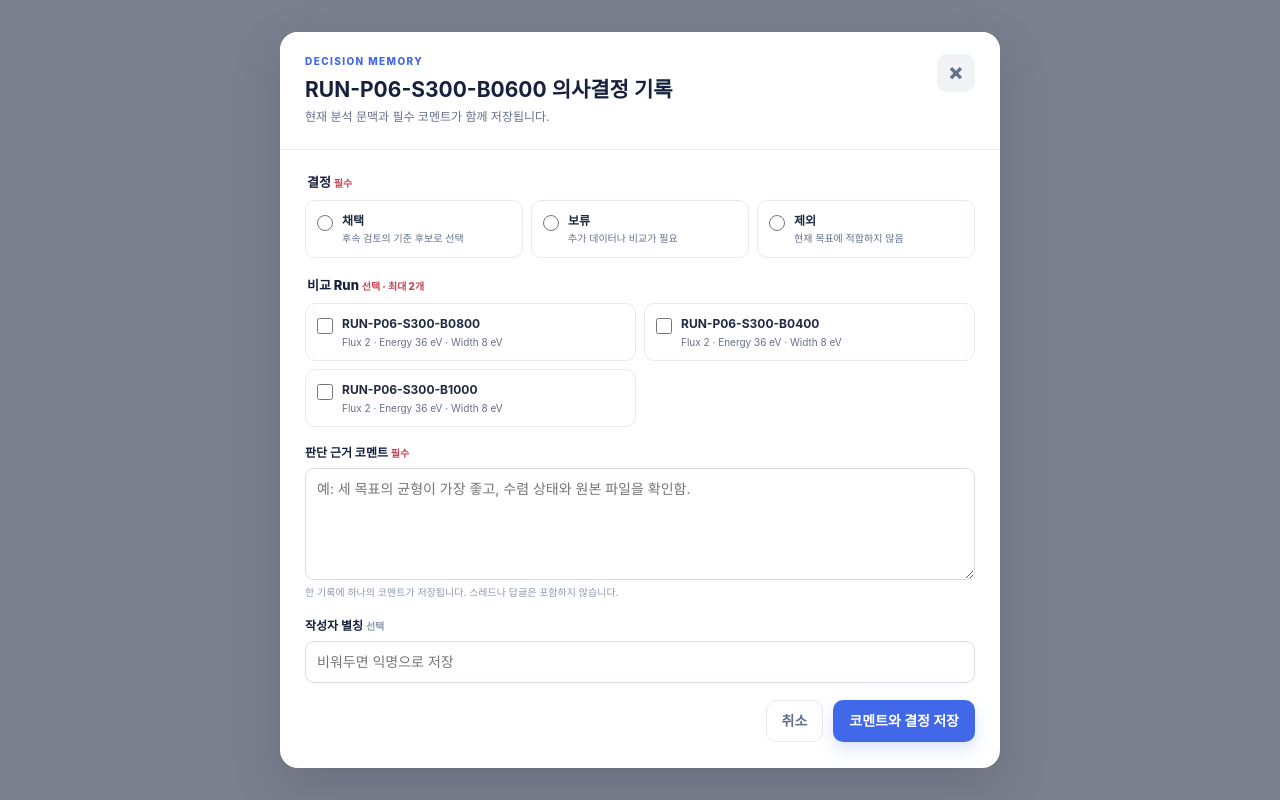
Scenario: REV allows independent HOLD decision and keeps comment after failure
Click the radio button labelled "보류 추가 데이터나 비교가 필요" at (551, 223), box [543, 215, 559, 231]
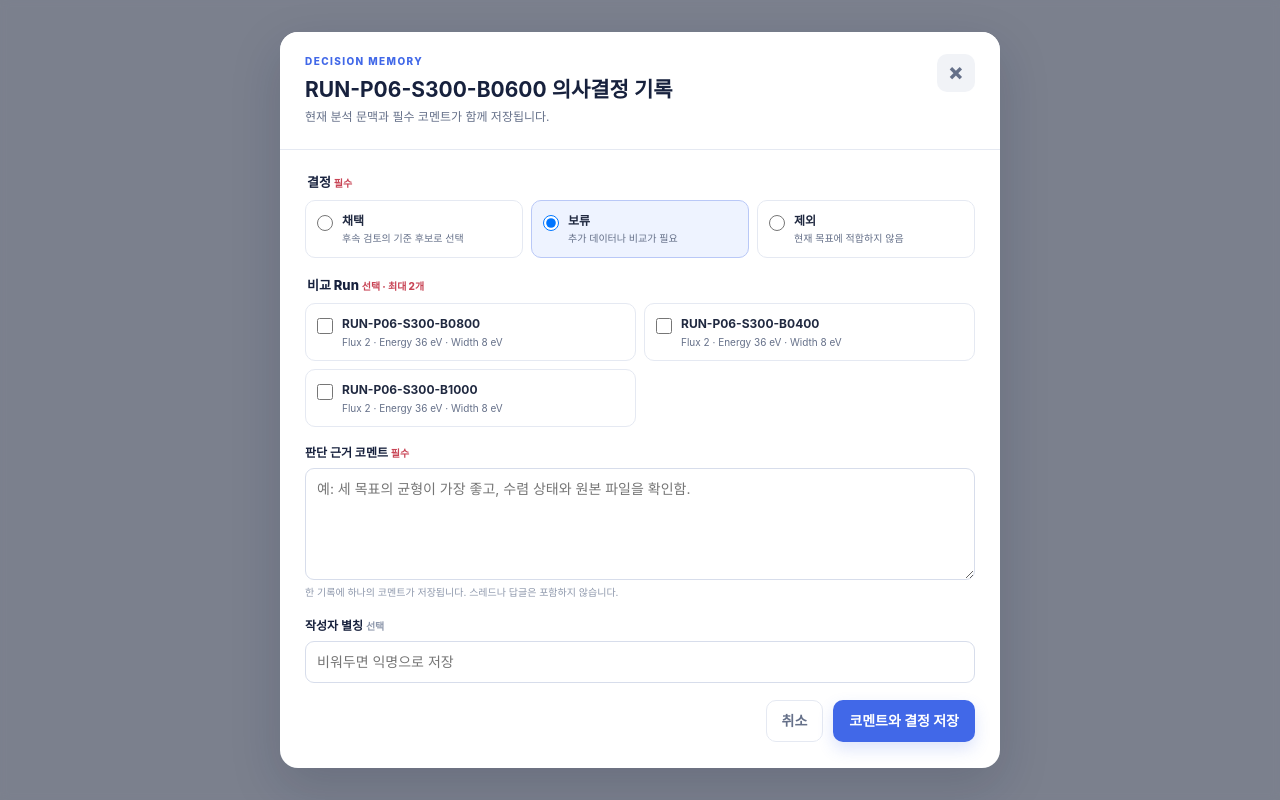
Type "추가 검토 <b>필요</b>" into the text box labelled "판단 근거 코멘트 필수 한 기록에 하나의 코멘트가 저장됩니다. 스레드나 답글은 포함하지 않습니다." at (640, 524), box [305, 468, 975, 580]
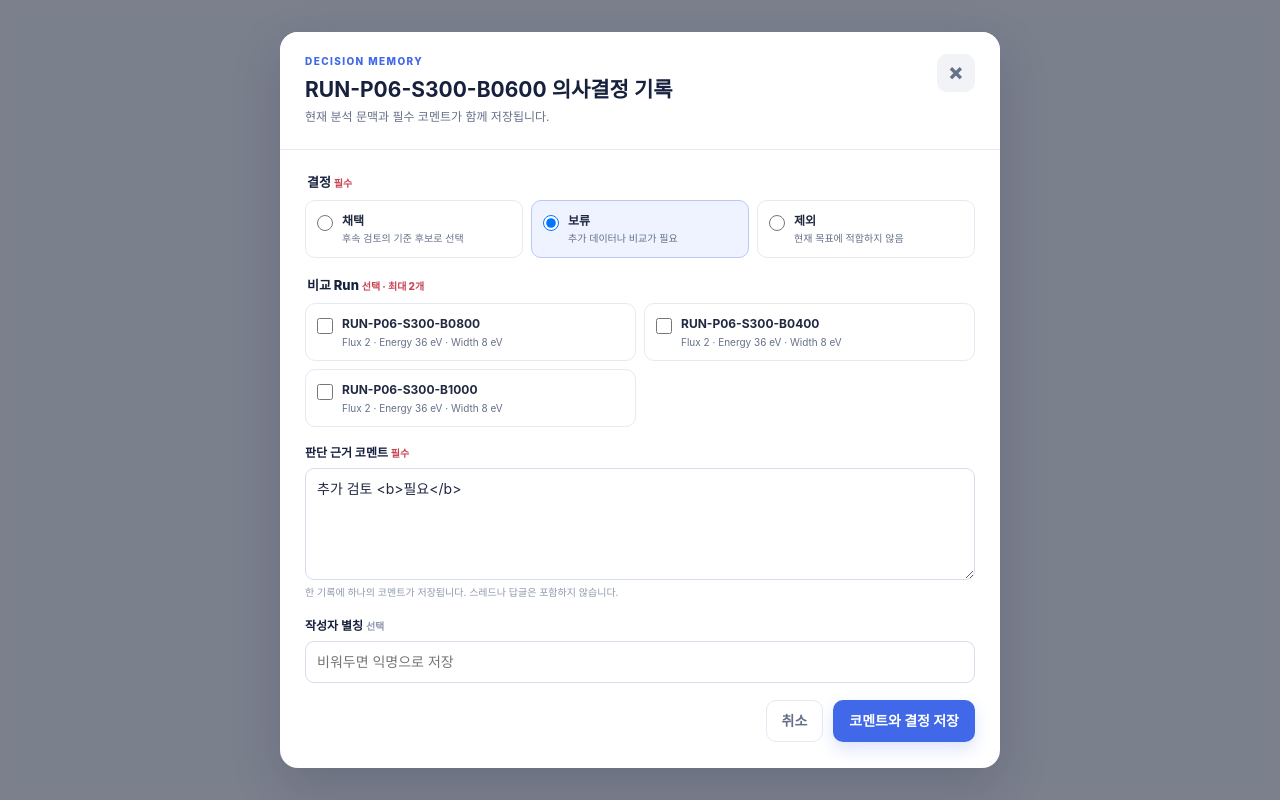
Click the button "코멘트와 결정 저장" at (904, 721), box [833, 700, 975, 742]
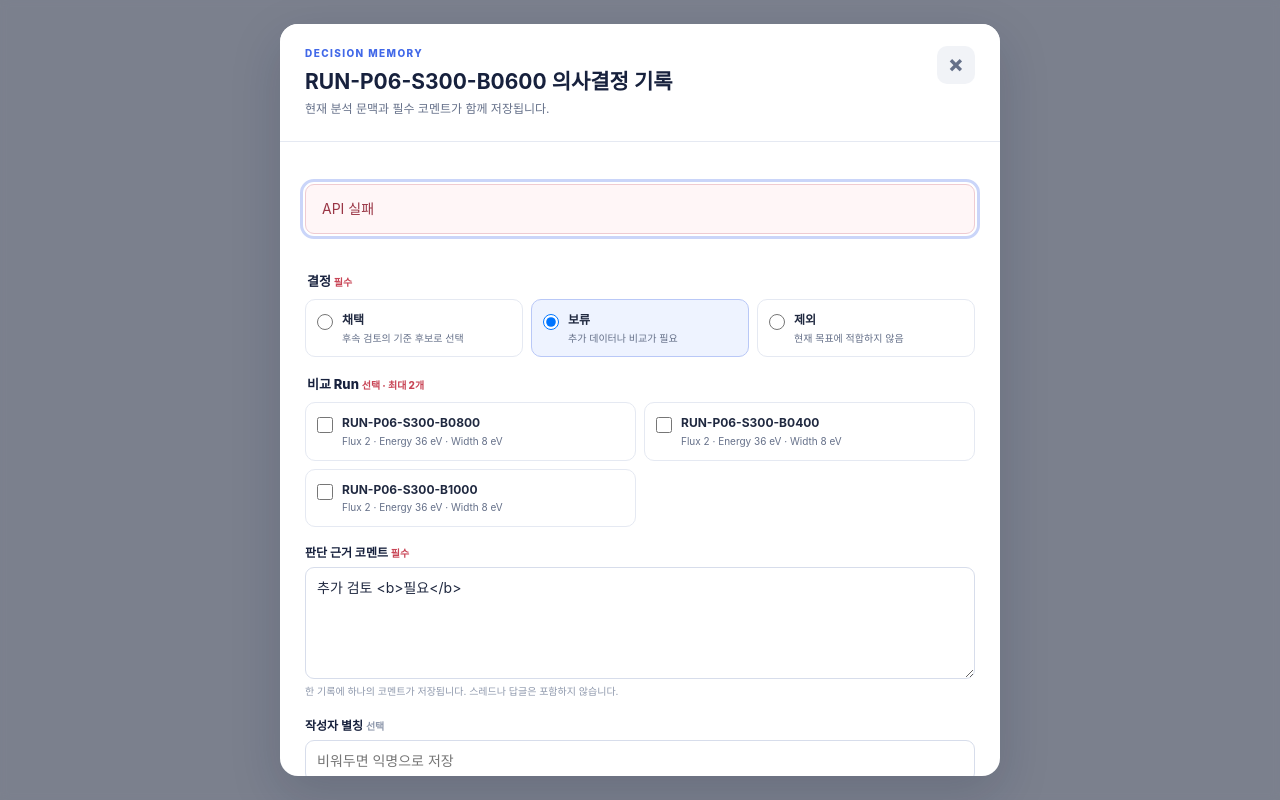
Now the text "API 실패" is shown, box [305, 184, 975, 234]
